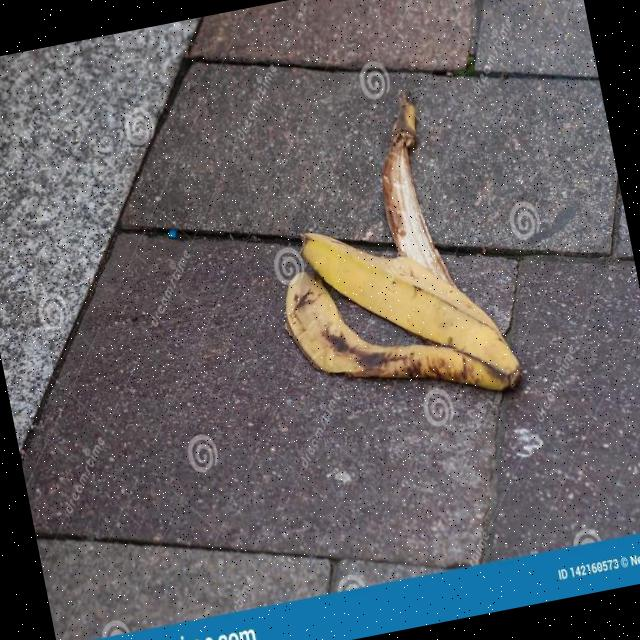banana-peel: (244, 78, 526, 431)
